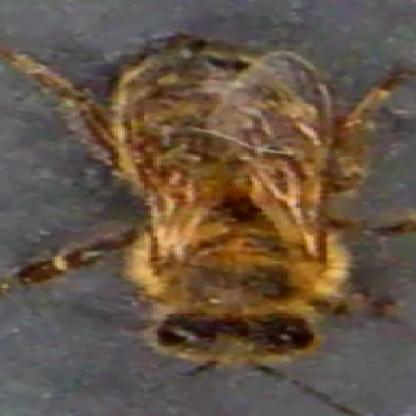bee: (81, 31, 364, 365)
